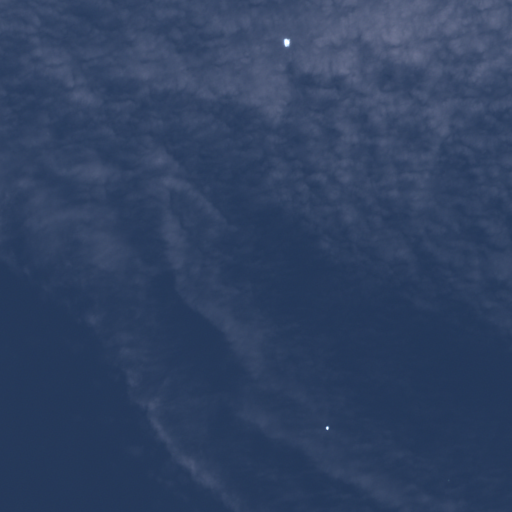Iceberg: (284, 38, 289, 46), (326, 426, 328, 429)
